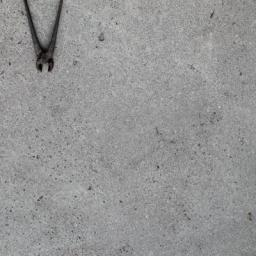FOD: (22, 1, 66, 76)
